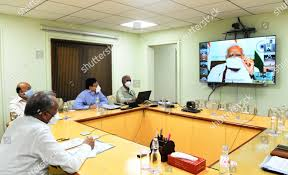Caution: (5, 83, 93, 173), (76, 75, 144, 109)
